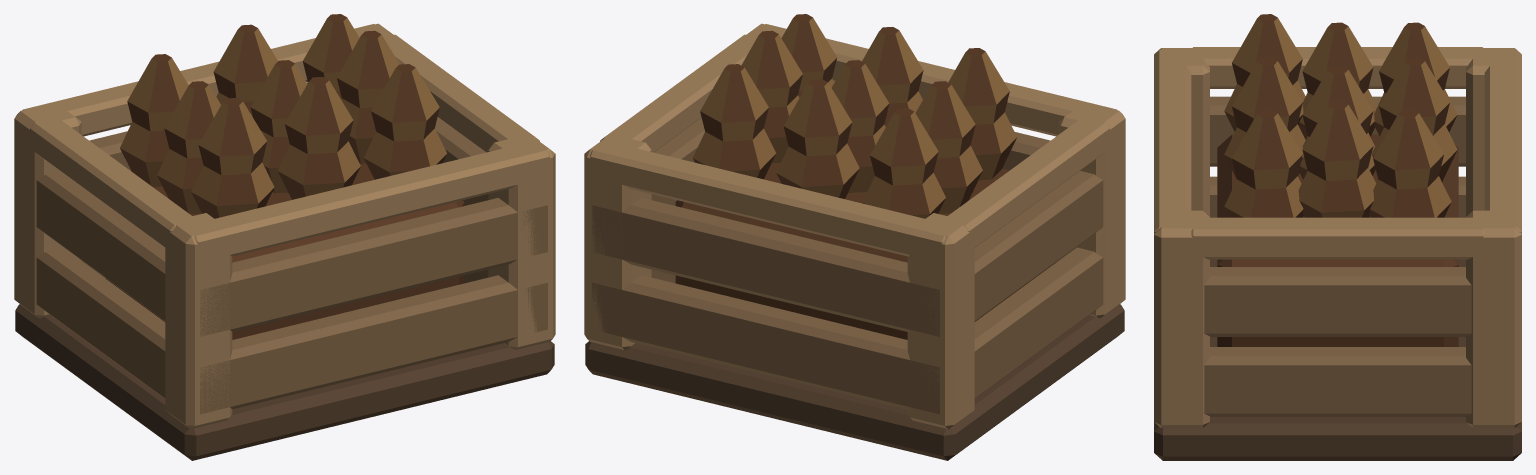
The model's file is pine_cone_full.glb.
3 renders of one model, left to right at view 1: azimuth 30°, elevation 25°; view 2: azimuth 150°, elevation 25°; view 3: azimuth 270°, elevation 25°, orthographic. The views are drawn at different scales.
Parts seen in each view (by area): view 1: pine_cone_full; view 2: pine_cone_full; view 3: pine_cone_full.
Part boxes in pixels (box(x1,y1,x2,y2)): pine_cone_full: box(14, 14, 555, 460); pine_cone_full: box(584, 14, 1125, 460); pine_cone_full: box(1154, 14, 1521, 460).
Bounding box in the file's own units: 0.75 × 0.581 × 0.625.
